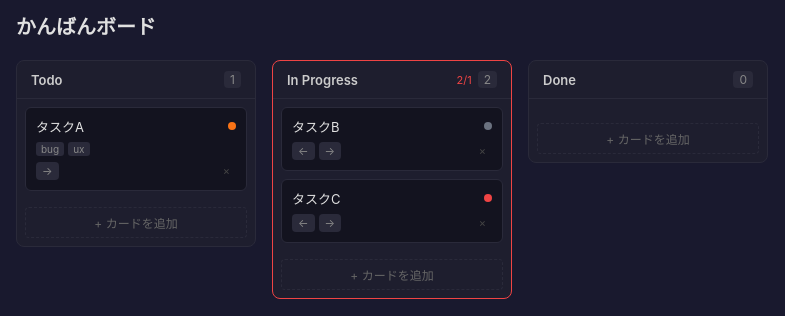
Test: KanbanScreen › カード入力後 キャンセル で入力を閉じる
Click the button "+ カードを追加" below "bug".
click(136, 223)  # box [25,207,247,238]
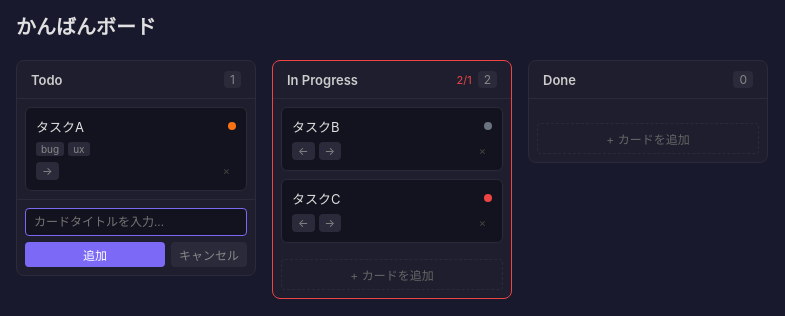
Click the button "キャンセル".
click(209, 255)  # box [171,242,247,267]
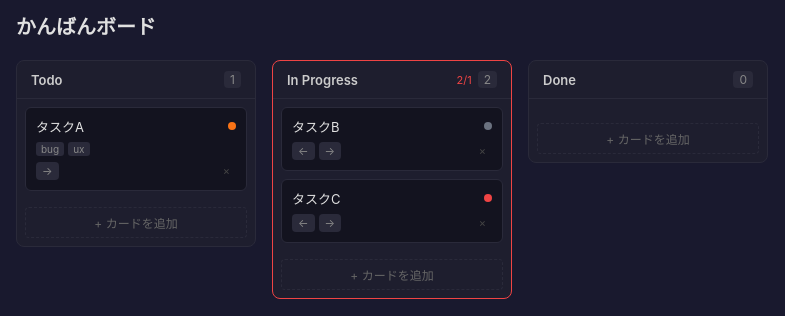
Check: the field with placeholder "カードタイトルを入力..." is gone
